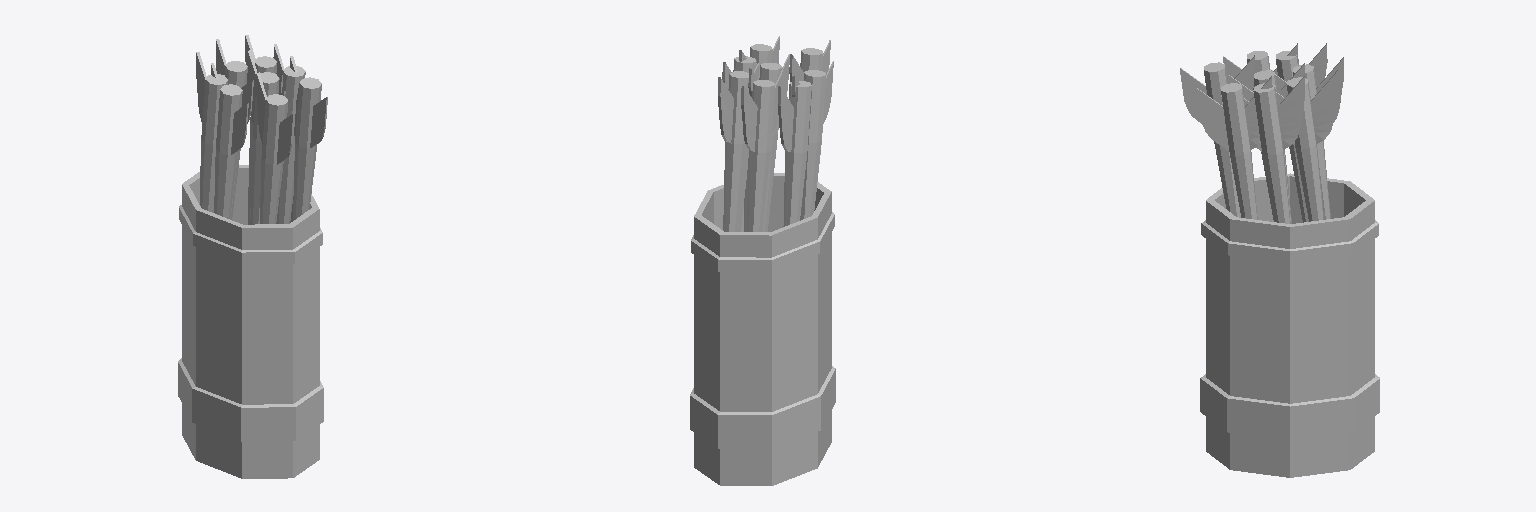
The model's file is quiver.obj.
3 views of the same model, side by side, from view 1: azimuth 30°, elevation 25°; view 2: azimuth 150°, elevation 25°; view 3: azimuth 270°, elevation 25° (orthographic).
Parts seen in each view (by area): view 1: Cylinder.001_Cylinder.002, Cylinder_Cylinder.001, Cylinder.007_Cylinder.008, Cylinder.002_Cylinder.003, Cylinder.003_Cylinder.004, Cylinder.006_Cylinder.007, Cylinder.005_Cylinder.006, Cylinder.004_Cylinder.005, Cylinder.008_Cylinder.009; view 2: Cylinder.001_Cylinder.002, Cylinder.004_Cylinder.005, Cylinder.003_Cylinder.004, Cylinder.008_Cylinder.009, Cylinder.002_Cylinder.003, Cylinder.005_Cylinder.006, Cylinder_Cylinder.001, Cylinder.007_Cylinder.008, Cylinder.006_Cylinder.007; view 3: Cylinder.001_Cylinder.002, Cylinder.007_Cylinder.008, Cylinder.006_Cylinder.007, Cylinder.008_Cylinder.009, Cylinder_Cylinder.001, Cylinder.004_Cylinder.005, Cylinder.003_Cylinder.004, Cylinder.002_Cylinder.003, Cylinder.005_Cylinder.006.
Part boxes in pixels (x1,y1,x2,y2): Cylinder.001_Cylinder.002: (178, 165, 323, 478); Cylinder_Cylinder.001: (256, 72, 294, 223); Cylinder.007_Cylinder.008: (290, 56, 327, 220); Cylinder.002_Cylinder.003: (211, 63, 248, 218); Cylinder.003_Cylinder.004: (196, 52, 227, 212); Cylinder.006_Cylinder.007: (273, 44, 305, 223); Cylinder.005_Cylinder.006: (247, 50, 285, 224); Cylinder.004_Cylinder.005: (216, 39, 253, 219); Cylinder.008_Cylinder.009: (245, 35, 282, 224); Cylinder.001_Cylinder.002: (690, 173, 835, 485); Cylinder.004_Cylinder.005: (741, 71, 782, 231); Cylinder.003_Cylinder.004: (778, 81, 811, 226); Cylinder.008_Cylinder.009: (718, 63, 758, 231); Cylinder.002_Cylinder.003: (792, 61, 833, 220); Cylinder.005_Cylinder.006: (748, 54, 789, 231); Cylinder_Cylinder.001: (789, 40, 830, 81); Cylinder.007_Cylinder.008: (739, 36, 779, 231); Cylinder.006_Cylinder.007: (722, 56, 756, 231); Cylinder.001_Cylinder.002: (1200, 173, 1379, 477); Cylinder.007_Cylinder.008: (1197, 76, 1272, 219); Cylinder.006_Cylinder.007: (1244, 76, 1304, 223); Cylinder.008_Cylinder.009: (1276, 70, 1338, 221); Cylinder_Cylinder.001: (1180, 55, 1255, 217); Cylinder.004_Cylinder.005: (1268, 57, 1343, 219); Cylinder.003_Cylinder.004: (1270, 43, 1327, 222); Cylinder.002_Cylinder.003: (1223, 43, 1298, 221); Cylinder.005_Cylinder.006: (1229, 63, 1304, 223).
Size of the model in its own units: 0.9728 by 3.11 by 1.45.